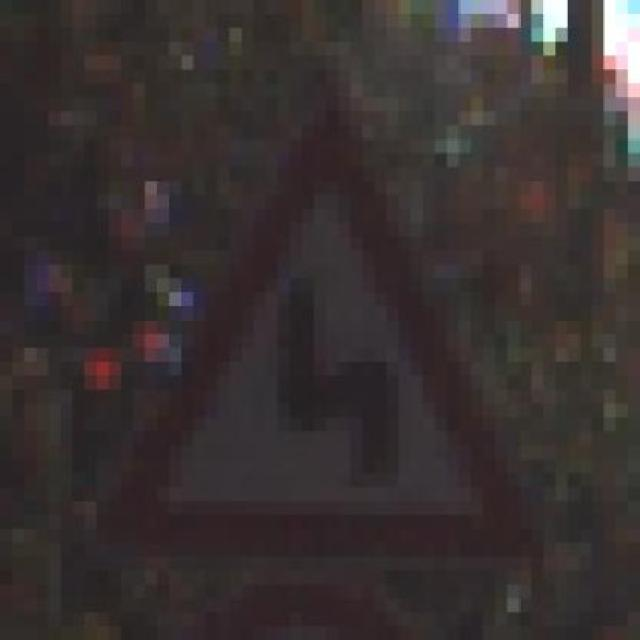Left Zig Zag Traffic: (84, 69, 556, 585)
